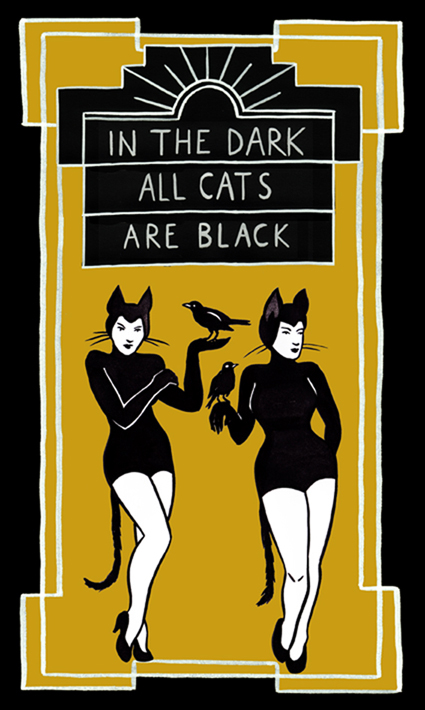bird: (168, 293, 235, 349), (195, 359, 246, 406)
car: (69, 297, 164, 664)
cat: (254, 297, 335, 670)
